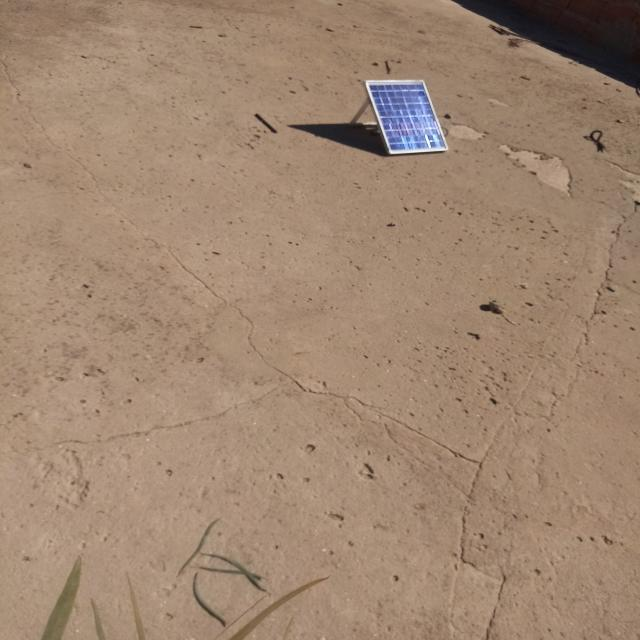no faulty: (366, 80, 449, 154)
